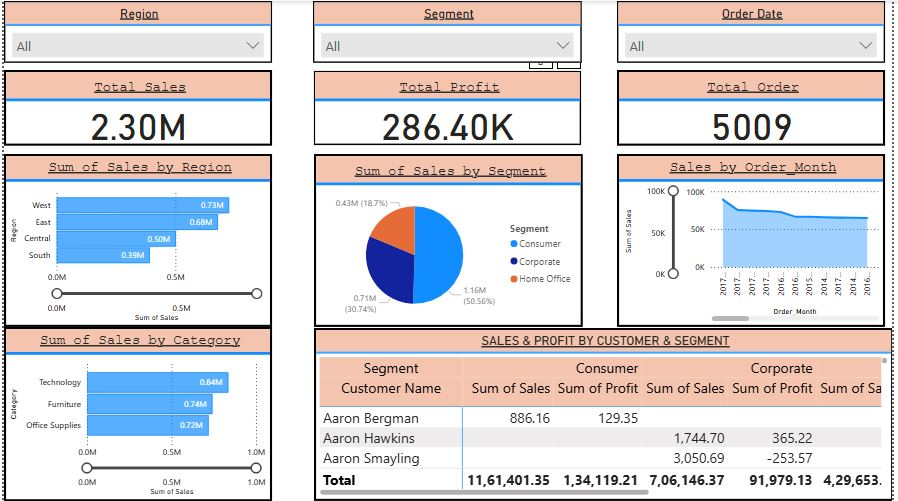

This screenshot's page, from the dashboard's own definition file:
{"tool":"powerbi","page":{"name":"Page 1","canvas":[1280,720],"ordinal":0},"visuals":[{"type":"card","title":"Total Sales","fields":{"Values":["Sample_Superstore_Cleaned_Final.Sales"]},"box":[0,99.4,385.7,109.5],"z":0},{"type":"card","title":"Total Profit","fields":{"Values":["Sample_Superstore_Cleaned_Final.Profit"]},"box":[444.6,99.4,387.4,109.5],"z":1000},{"type":"card","title":"Total Order","fields":{"Values":["Sample_Superstore_Cleaned_Final.Order ID"]},"box":[882.5,99.4,385.7,109.5],"z":2000},{"type":"barChart","fields":{"Category":["Sample_Superstore_Cleaned_Final.Region"],"Y":["Sample_Superstore_Cleaned_Final.Sales"]},"box":[0,220.6,385.7,249.3],"z":3000},{"type":"barChart","fields":{"Y":["Sample_Superstore_Cleaned_Final.Sales"],"Category":["Sample_Superstore_Cleaned_Final.Category"]},"box":[0,469.9,385.7,250.9],"z":4000},{"type":"lineChart","title":"Sales by Order_Month","fields":{"Category":["Sample_Superstore_Cleaned_Final.Order_Month"],"Y":["Sample_Superstore_Cleaned_Final.Sales"]},"box":[882.5,220.6,385.7,249.3],"z":5000},{"type":"pieChart","fields":{"Category":["Sample_Superstore_Cleaned_Final.Segment"],"Y":["Sample_Superstore_Cleaned_Final.Sales"]},"box":[446.3,220.6,387.4,249.3],"z":6000},{"type":"pivotTable","title":"SALES & PROFIT BY CUSTOMER & SEGMENT","fields":{"Values":["Sample_Superstore_Cleaned_Final.Sales","Sample_Superstore_Cleaned_Final.Profit"],"Rows":["Sample_Superstore_Cleaned_Final.Customer Name"],"Columns":["Sample_Superstore_Cleaned_Final.Segment"]},"box":[446.3,471.6,833.7,249.3],"z":7000},{"type":"slicer","title":"Region","fields":{"Values":["Sample_Superstore_Cleaned_Final.Region"]},"box":[0,0,385.7,89.3],"z":7001},{"type":"slicer","title":"Segment","fields":{"Values":["Sample_Superstore_Cleaned_Final.Segment"]},"box":[444.6,0,387.4,89.3],"z":7002},{"type":"slicer","title":"Order Date","fields":{"Values":["Sample_Superstore_Cleaned_Final.Order Date Cleaned"]},"box":[882.5,0,385.7,89.3],"z":7003}]}

Visuals, with their boxes in screenshot pixels (x1, y1, x2, y2), scaled from the page's 1280x720 canvas onto the 898x501 screenshot:
"Total Sales" card: rect(0, 69, 271, 145)
"Total Profit" card: rect(312, 69, 584, 145)
"Total Order" card: rect(619, 69, 890, 145)
barChart - Sample_Superstore_Cleaned_Final.Region x Sample_Superstore_Cleaned_Final.Sales: rect(0, 154, 271, 327)
barChart - Sample_Superstore_Cleaned_Final.Sales x Sample_Superstore_Cleaned_Final.Category: rect(0, 327, 271, 500)
"Sales by Order_Month" lineChart: rect(619, 154, 890, 327)
pieChart - Sample_Superstore_Cleaned_Final.Segment x Sample_Superstore_Cleaned_Final.Sales: rect(313, 154, 585, 327)
"SALES & PROFIT BY CUSTOMER & SEGMENT" pivotTable: rect(313, 328, 897, 500)
"Region" slicer: rect(0, 0, 271, 62)
"Segment" slicer: rect(312, 0, 584, 62)
"Order Date" slicer: rect(619, 0, 890, 62)
